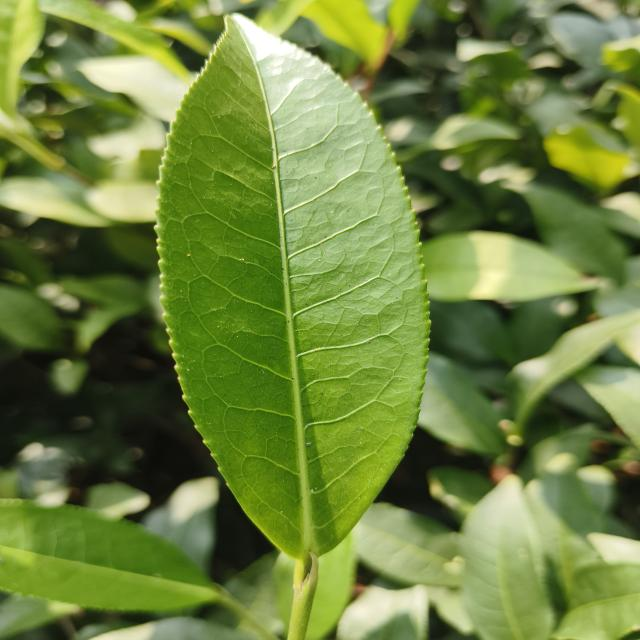Leaf: (156, 15, 429, 558), (0, 499, 218, 611), (461, 475, 554, 640), (510, 310, 640, 426), (525, 453, 613, 615), (423, 231, 598, 302), (38, 0, 189, 80), (522, 183, 626, 280), (417, 351, 506, 456), (356, 502, 461, 587), (77, 56, 191, 122), (142, 476, 219, 572), (555, 562, 640, 640), (300, 0, 389, 71), (543, 121, 632, 190), (0, 176, 112, 227), (430, 300, 513, 364), (336, 583, 429, 640), (577, 366, 640, 449), (0, 0, 44, 117), (0, 284, 62, 350), (547, 12, 614, 68), (427, 466, 494, 516)
